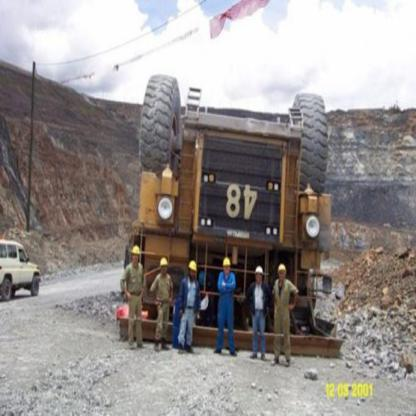face: (280, 270, 285, 281), (191, 269, 196, 280), (134, 252, 139, 263), (257, 273, 262, 283), (225, 264, 230, 274), (162, 265, 167, 275)
